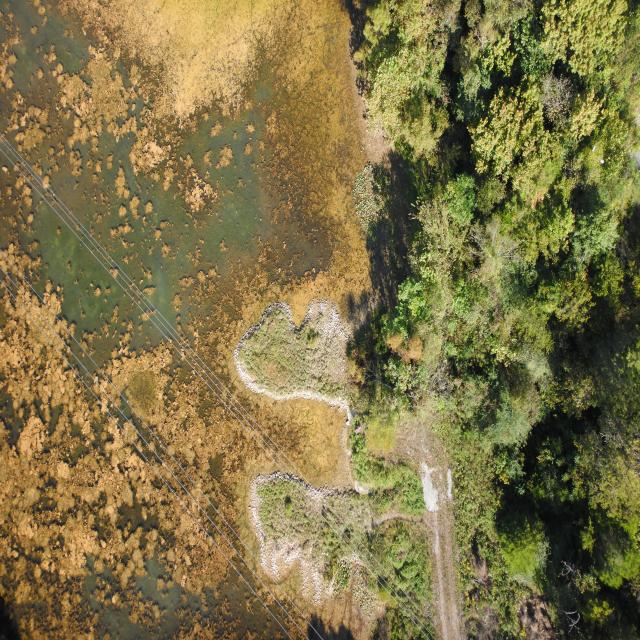Area of Interest: (378, 10, 635, 612)
